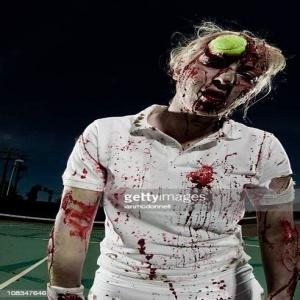Tennis: (208, 33, 253, 61)
